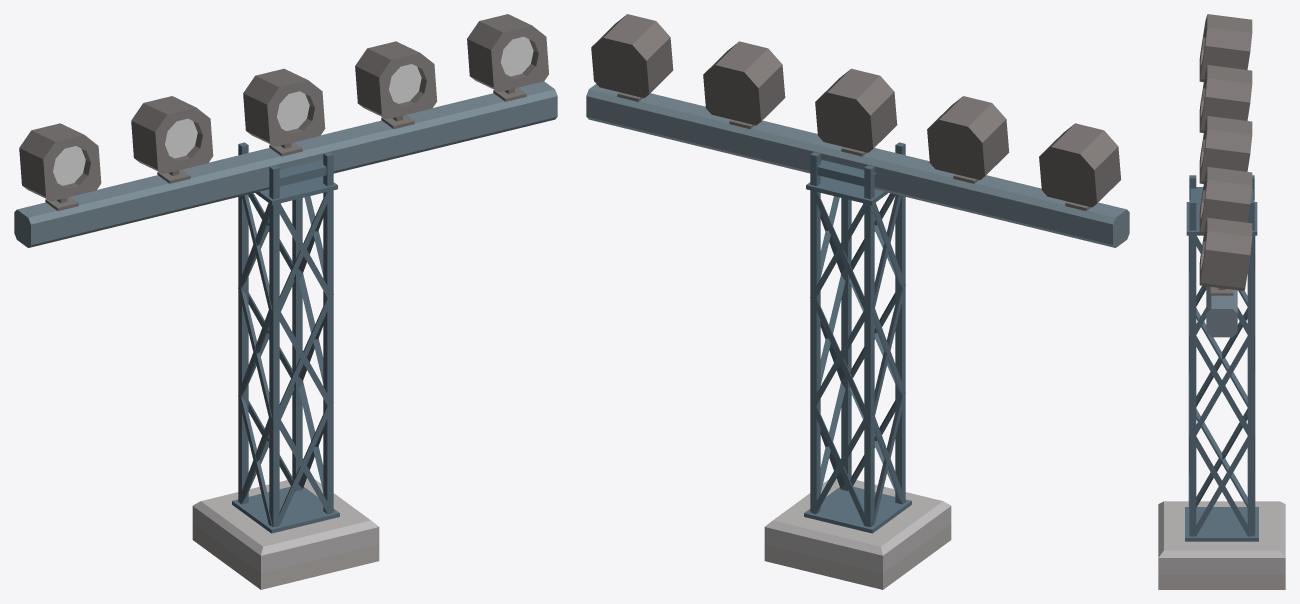
File: approach-lighting-bar-6bb554.glb
3 views of the same model, side by side, from view 1: azimuth 30°, elevation 25°; view 2: azimuth 150°, elevation 25°; view 3: azimuth 270°, elevation 25° (orthographic). The views are drawn at different scales.
Visible parts, largest first — view 1: approach-lighting-bar-body; view 2: approach-lighting-bar-body; view 3: approach-lighting-bar-body.
Boxes of the visible parts, x1,y1,x2,y2 form: approach-lighting-bar-body: (14, 14, 557, 589); approach-lighting-bar-body: (586, 14, 1129, 589); approach-lighting-bar-body: (1158, 14, 1285, 589).
Bounding box in the file's own units: 4 × 3.43 × 0.9.
